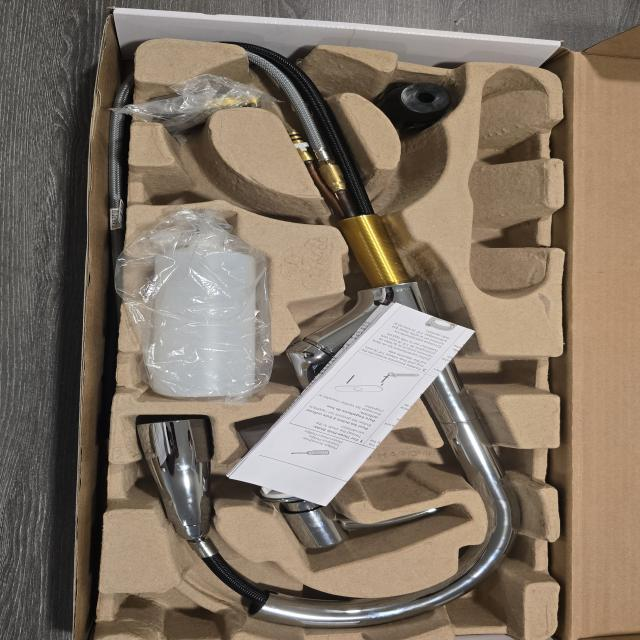1o: (138, 45, 521, 629)
2o: (244, 421, 437, 550)
3: (151, 211, 263, 402)
4m: (465, 68, 549, 299)
5: (373, 81, 455, 135)
6: (110, 72, 289, 139)
7m: (145, 151, 271, 212)
8: (226, 301, 477, 506)
